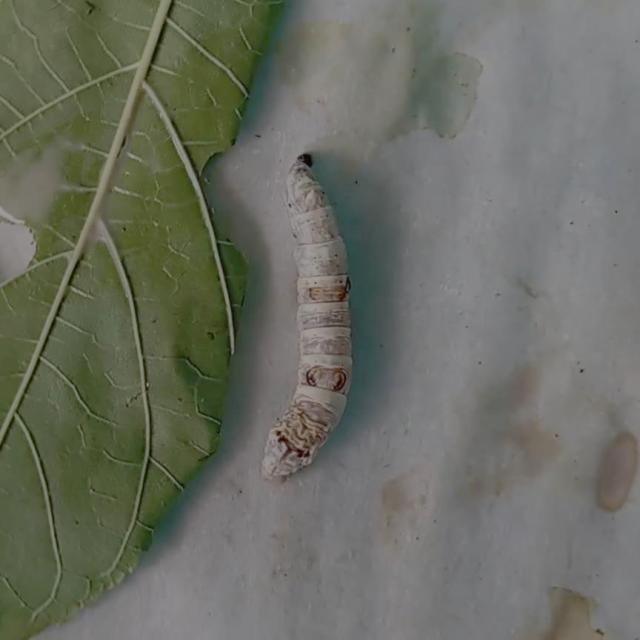Grasserie: (232, 117, 400, 508)
